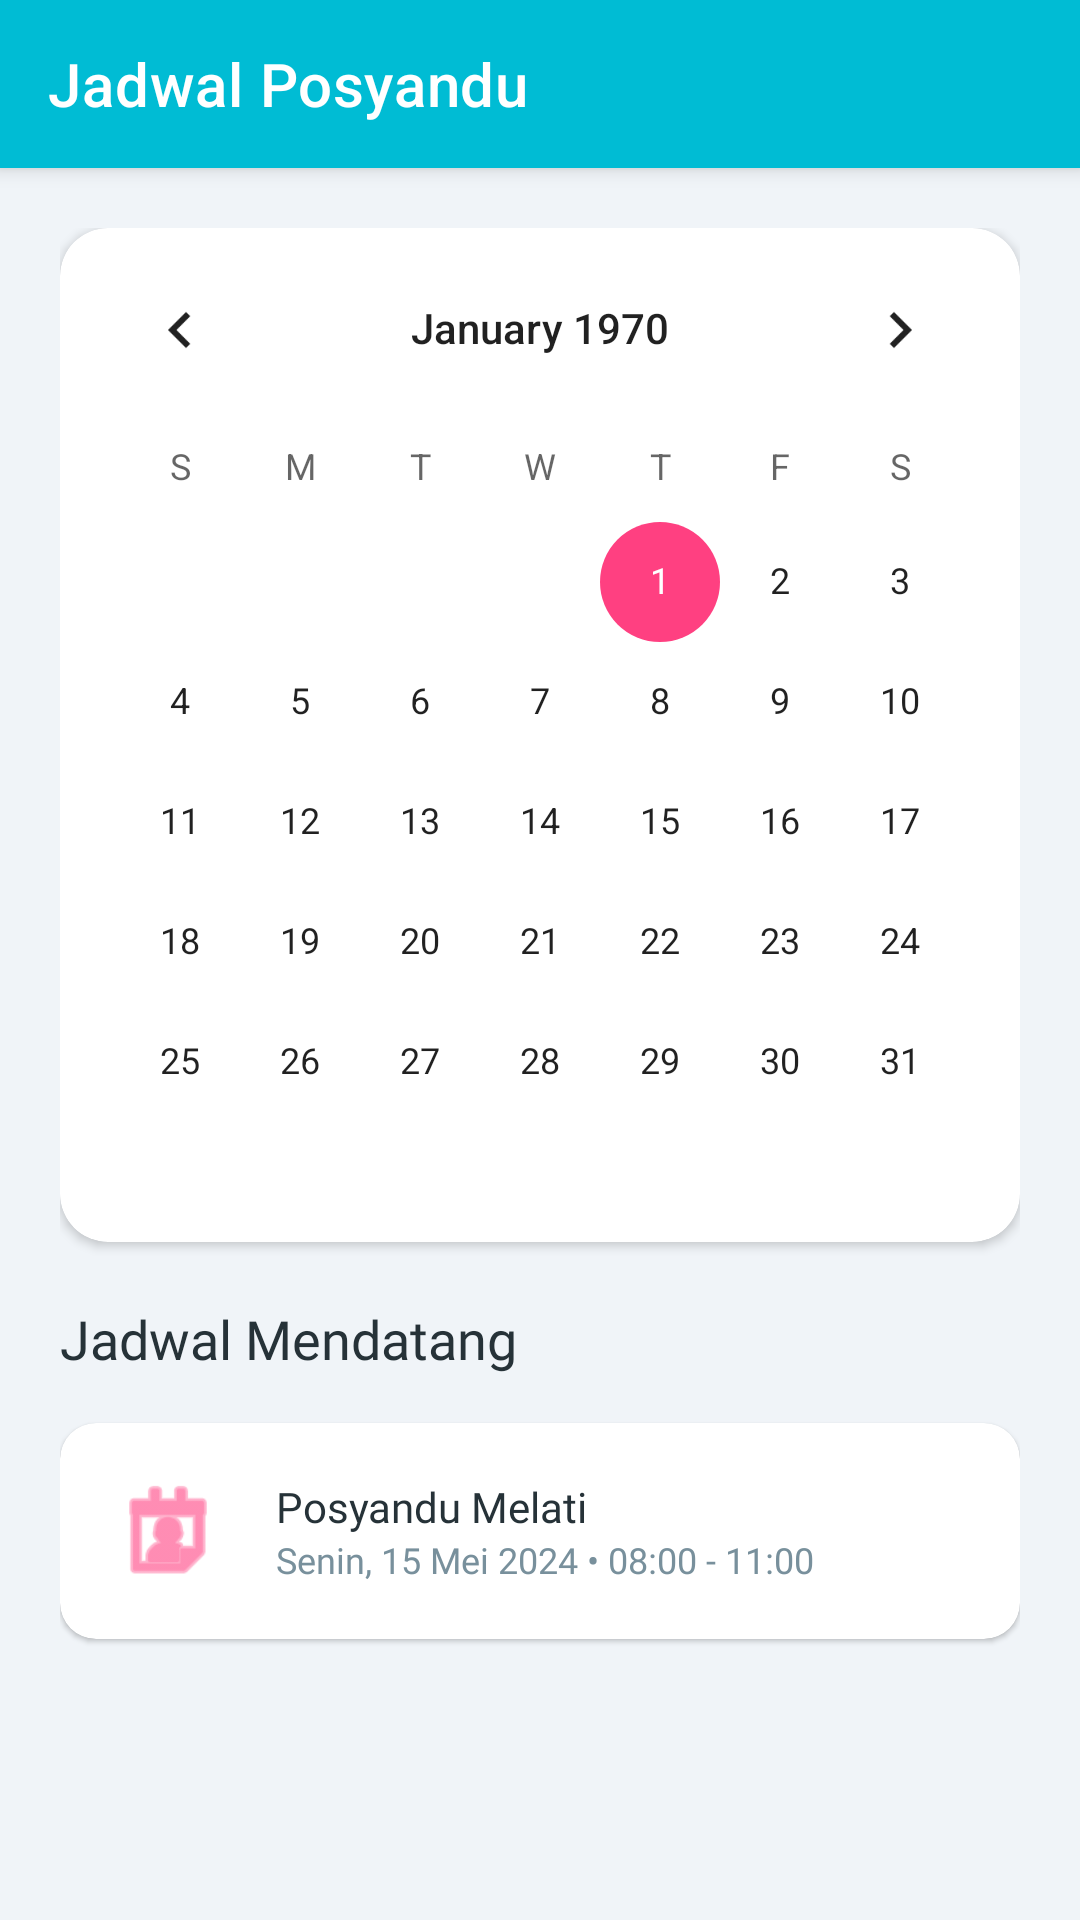

Icons on this 1080 x 1920 Android screen, each with the point to tap as [x,y]:
calendar: [168,1530]
